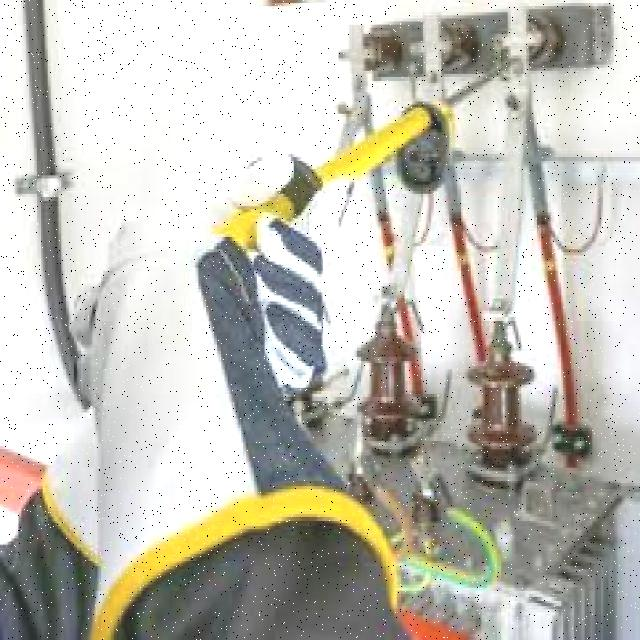Gloves: (99, 207, 272, 498)
